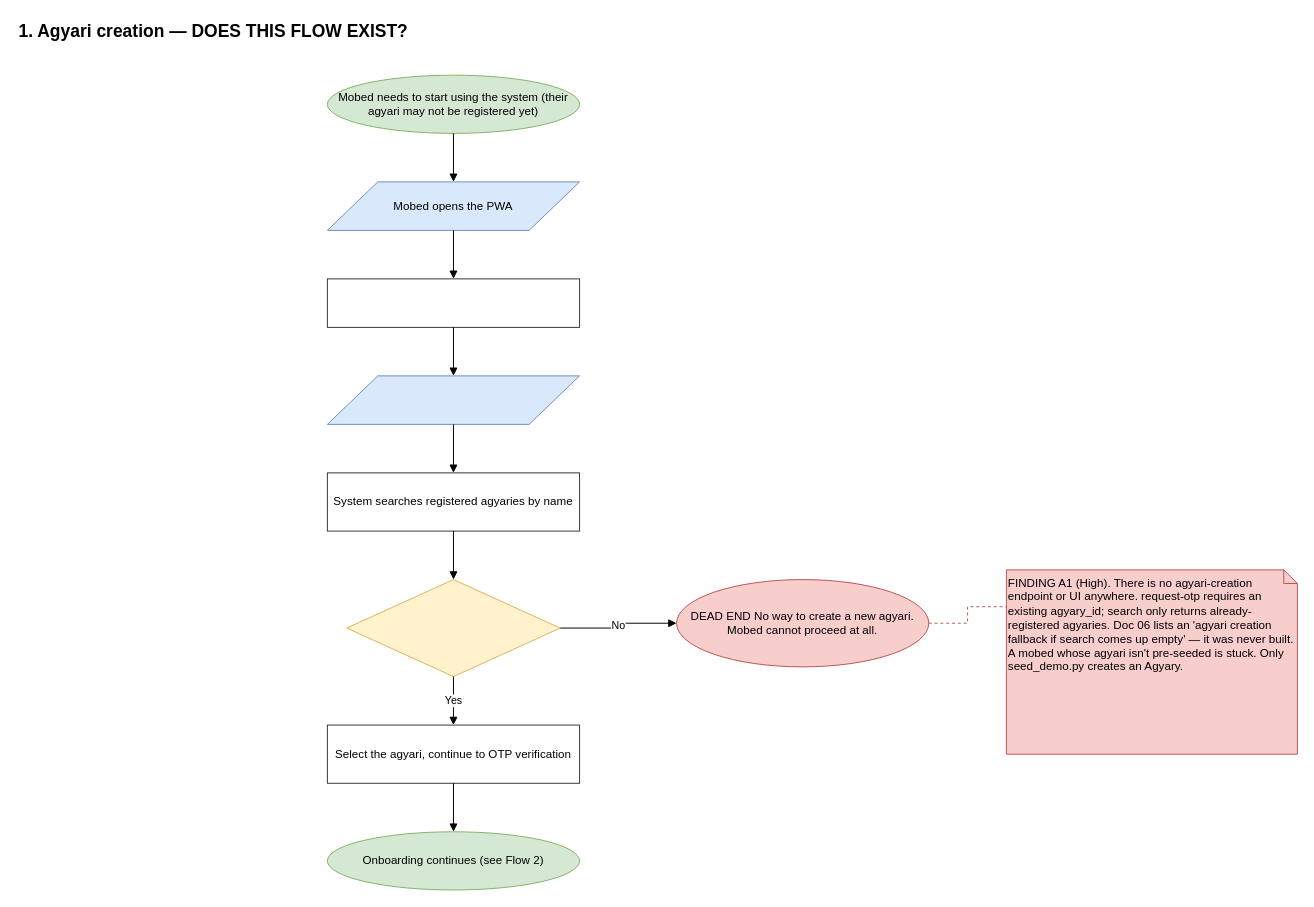
Image size: 1314x907. Some labels were removed from this diagram. Each missing label, with the centre of its shape:
"Does any agyari match?" belongs at (453,628).
"Enter name + phone" belongs at (453,302).
"Type agyari name into the search box" belongs at (453,399).
